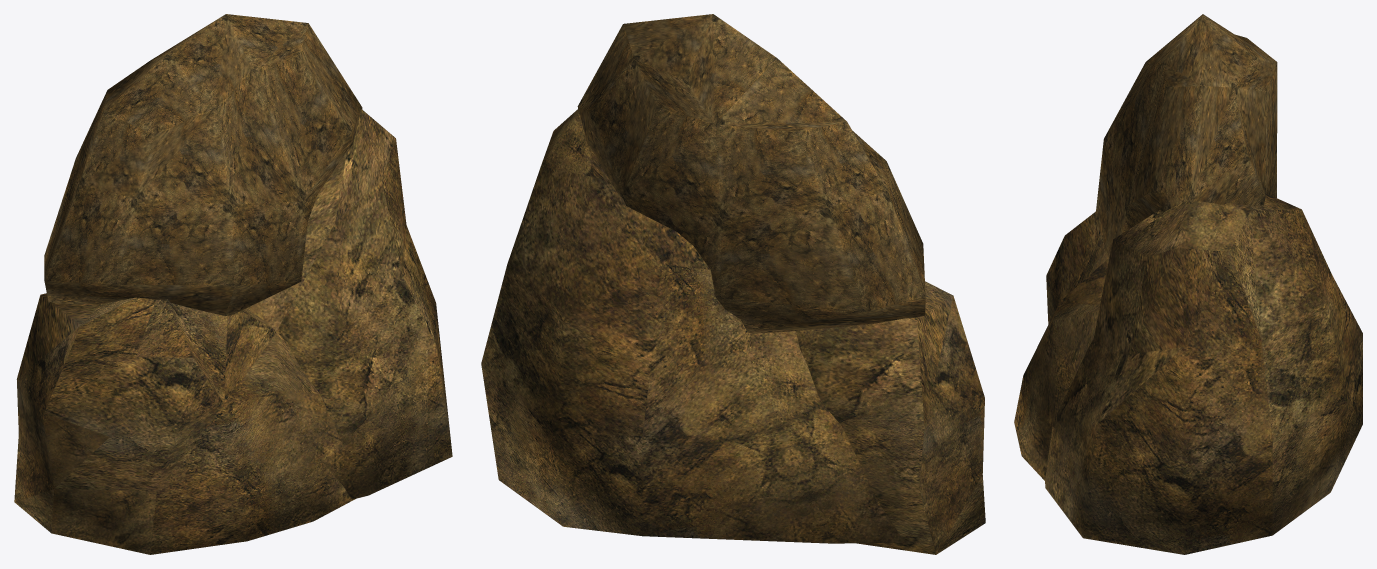
Rendered from donhwang_stone.glb.
3 renders of one model, left to right at view 1: azimuth 30°, elevation 25°; view 2: azimuth 150°, elevation 25°; view 3: azimuth 270°, elevation 25°, orthographic. The views are drawn at different scales.
Visible parts, largest first — view 1: out_obj_stone; view 2: out_obj_stone; view 3: out_obj_stone.
Part boxes in pixels (x1,y1,x2,y2): out_obj_stone: [14, 14, 452, 554]; out_obj_stone: [481, 14, 985, 554]; out_obj_stone: [1014, 14, 1362, 554].
Bounding box in the file's own units: 7.17 × 7.26 × 5.2.
1 material, 1 textured.
